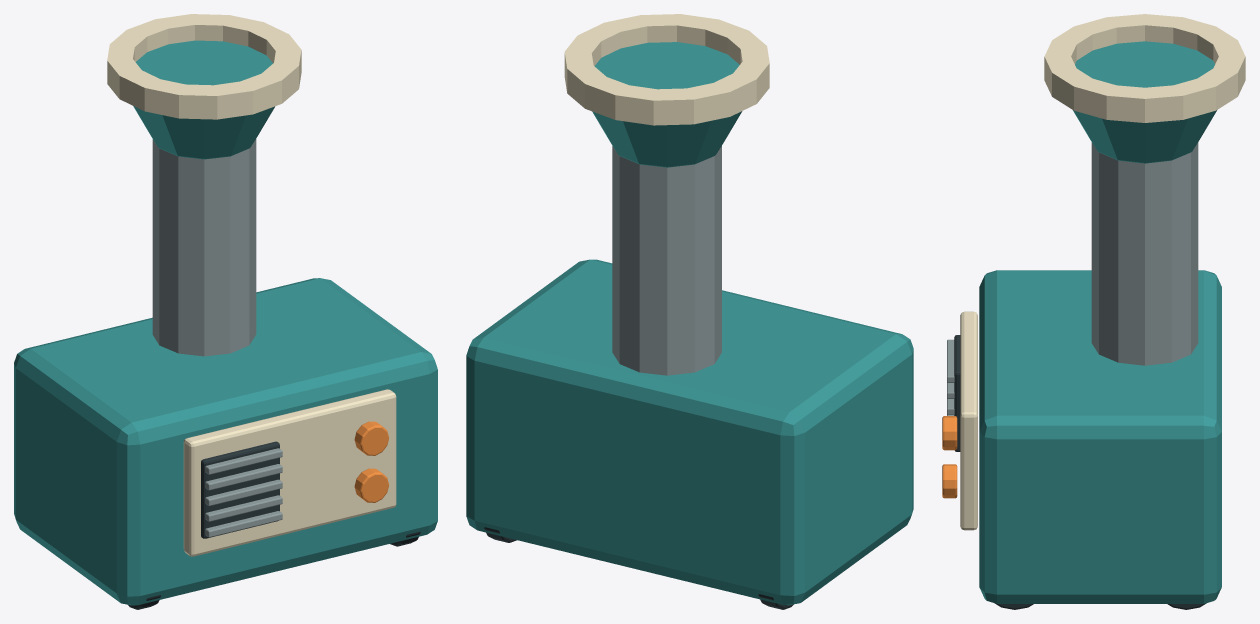
The model's file is S081_smoke_stack_rig.glb.
The picture shows the model from 3 angles, left to right: view 1: azimuth 30°, elevation 25°; view 2: azimuth 150°, elevation 25°; view 3: azimuth 270°, elevation 25°; orthographic projection. The views are drawn at different scales.
Parts seen in each view (by area): view 1: smoke_machine_base, smoke_stack, machine_front_panel, stack_open_rim, stack_flare, grille_dark, smoke_control, smoke_control.001, grille_slat.001, grille_slat.004, grille_slat.002, grille_slat (+1 smaller); view 2: smoke_machine_base, smoke_stack, stack_open_rim, stack_flare; view 3: smoke_machine_base, smoke_stack, stack_open_rim, stack_flare, machine_front_panel, grille_dark, smoke_control, smoke_control.001.
Boxes of the visible parts, x1,y1,x2,y2 form: smoke_machine_base: (14,278,437,605); smoke_stack: (152,139,256,356); machine_front_panel: (183,389,396,556); stack_open_rim: (107,14,301,119); stack_flare: (133,40,274,159); grille_dark: (201,441,279,538); smoke_control: (354,468,389,502); smoke_control.001: (354,421,389,455); grille_slat.001: (205,495,282,521); grille_slat.004: (205,448,282,474); grille_slat.002: (205,479,282,505); grille_slat: (205,511,282,537); smoke_machine_base: (466,259,913,605); smoke_stack: (612,146,721,375); stack_open_rim: (564,14,769,125); stack_flare: (592,42,742,167); smoke_machine_base: (979,270,1221,603); smoke_stack: (1091,142,1198,365); stack_open_rim: (1044,14,1245,122); stack_flare: (1073,41,1216,163); machine_front_panel: (960,311,977,530); grille_dark: (954,335,960,451); smoke_control: (942,464,957,498); smoke_control.001: (942,416,957,450).
Bounding box in the file's own units: 1.28 × 1.81 × 1.03.
